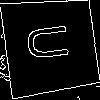U: (25, 21, 81, 63)
